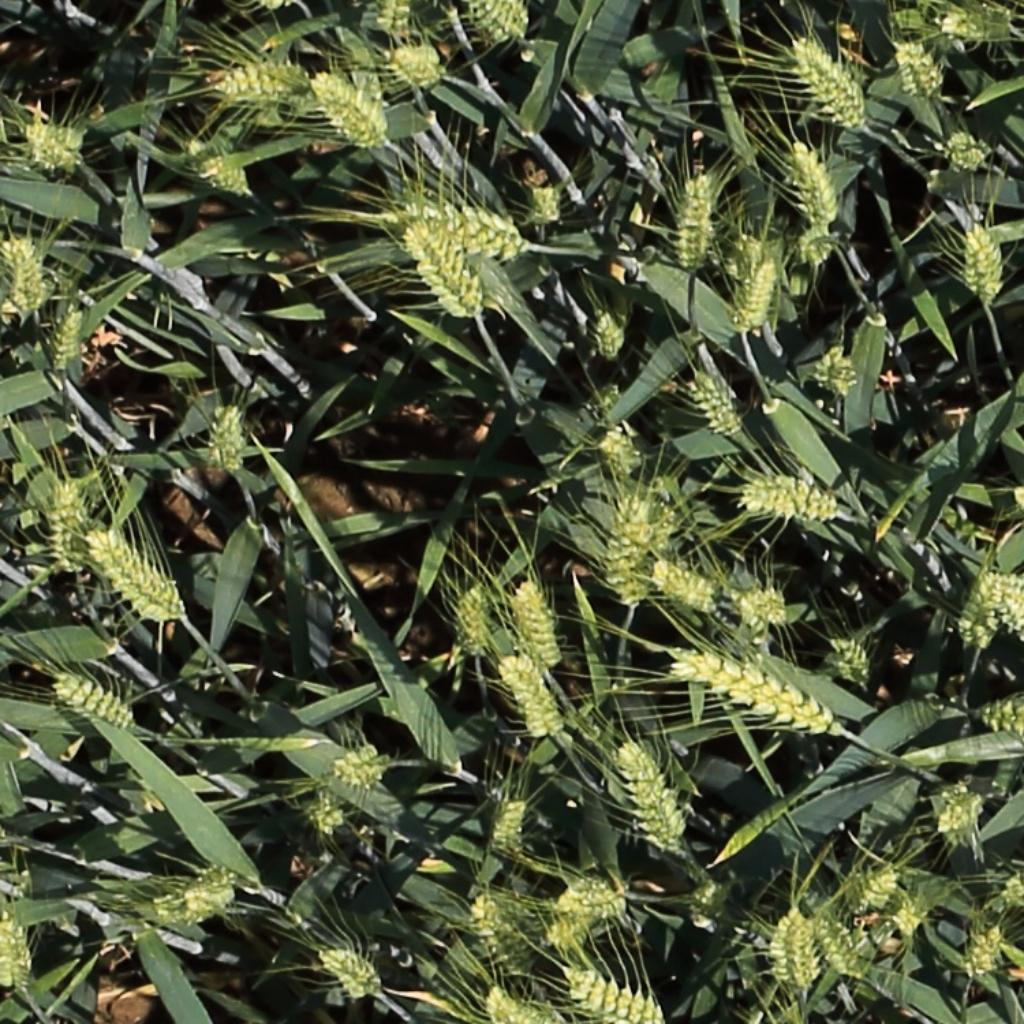0-0: (668, 646, 843, 732), (84, 529, 180, 621), (307, 68, 397, 156), (408, 217, 487, 316), (618, 742, 685, 853), (409, 202, 534, 260), (793, 36, 869, 125), (734, 469, 846, 527), (561, 965, 671, 1024), (146, 867, 250, 929), (471, 891, 536, 981), (501, 653, 565, 742), (203, 57, 312, 104), (789, 135, 842, 230), (51, 674, 136, 731), (674, 168, 717, 275), (0, 232, 50, 319), (517, 577, 562, 673), (688, 364, 744, 439), (611, 488, 647, 603), (551, 867, 629, 920), (737, 258, 786, 341), (811, 914, 869, 983), (482, 981, 574, 1024), (959, 570, 1006, 649), (383, 44, 451, 98), (184, 139, 251, 192), (329, 741, 392, 797), (966, 215, 1002, 309), (897, 35, 946, 103), (974, 570, 1017, 647), (319, 950, 385, 999), (653, 562, 719, 610), (2, 907, 36, 998), (51, 475, 81, 578), (488, 794, 531, 864), (935, 125, 996, 174), (293, 787, 352, 837), (49, 299, 87, 376), (828, 633, 876, 692), (847, 869, 902, 920), (966, 917, 1007, 983), (775, 902, 805, 992), (790, 905, 819, 996), (23, 122, 79, 169), (736, 585, 791, 631), (461, 578, 491, 662), (596, 428, 638, 488), (936, 785, 981, 839), (724, 229, 768, 284), (550, 908, 605, 952), (991, 574, 1024, 647), (214, 397, 241, 479), (823, 339, 857, 404), (471, 2, 521, 46), (524, 177, 567, 228), (372, 0, 423, 39), (791, 224, 835, 265), (0, 910, 20, 998), (595, 303, 623, 365), (480, 1, 529, 35), (943, 13, 1007, 39), (974, 701, 1022, 734), (889, 890, 926, 931), (996, 869, 1024, 911)
